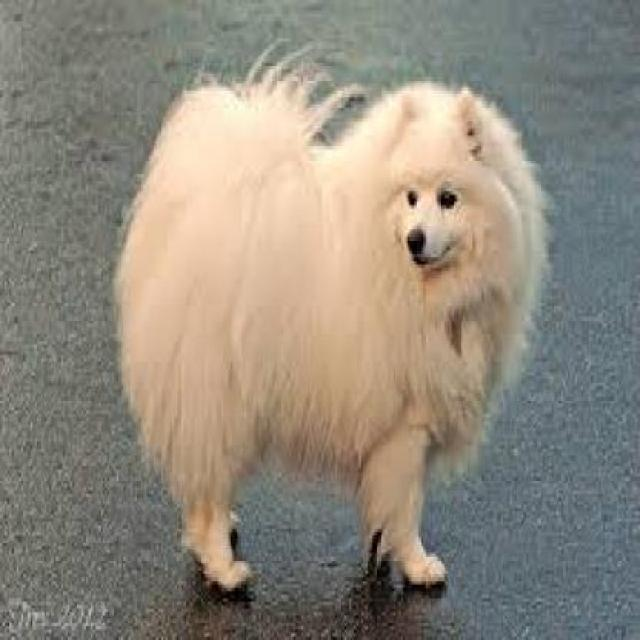animals: (116, 60, 552, 606)
